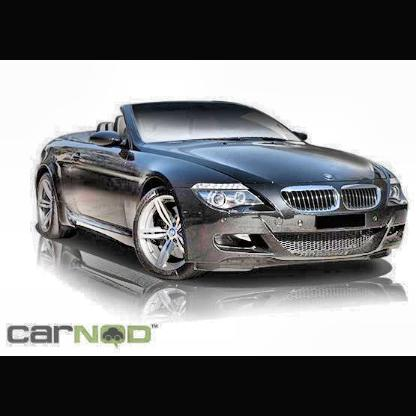BMW M6 Convertible 2010: (34, 101, 410, 284)
